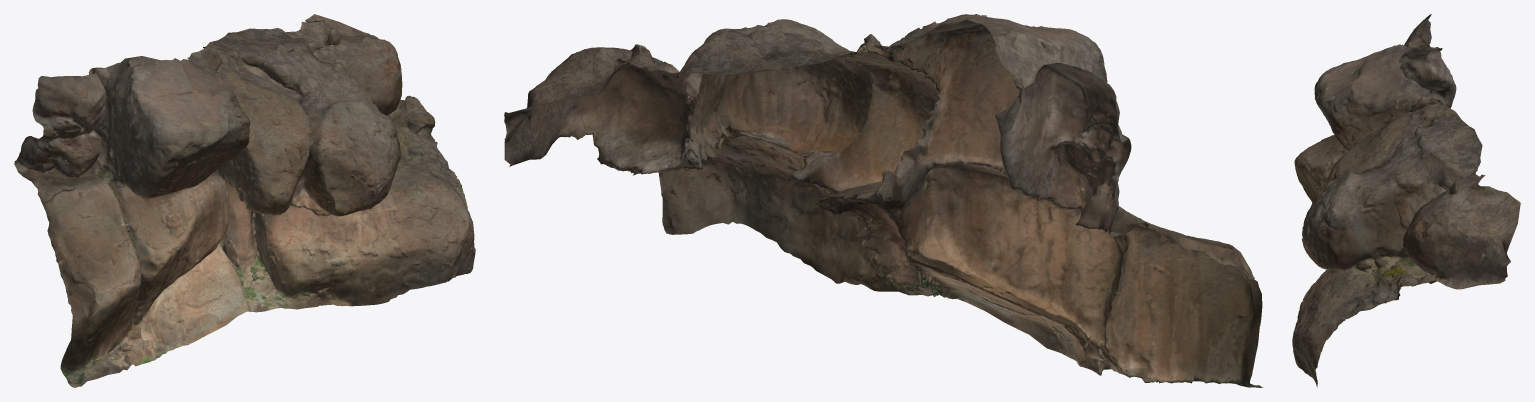
File: namaqualand_cliff_01.glb
The picture shows the model from 3 angles, left to right: view 1: azimuth 30°, elevation 25°; view 2: azimuth 150°, elevation 25°; view 3: azimuth 270°, elevation 25°; orthographic projection. The views are drawn at different scales.
Parts seen in each view (by area): view 1: drone_rock_01; view 2: drone_rock_01; view 3: drone_rock_01.
Part boxes in pixels (x1,y1,x2,y2): drone_rock_01: [14, 14, 475, 387]; drone_rock_01: [504, 14, 1263, 387]; drone_rock_01: [1292, 14, 1520, 387].
Bounding box in the file's own units: 8.28 × 4.96 × 4.39.
1 material, 1 textured.
